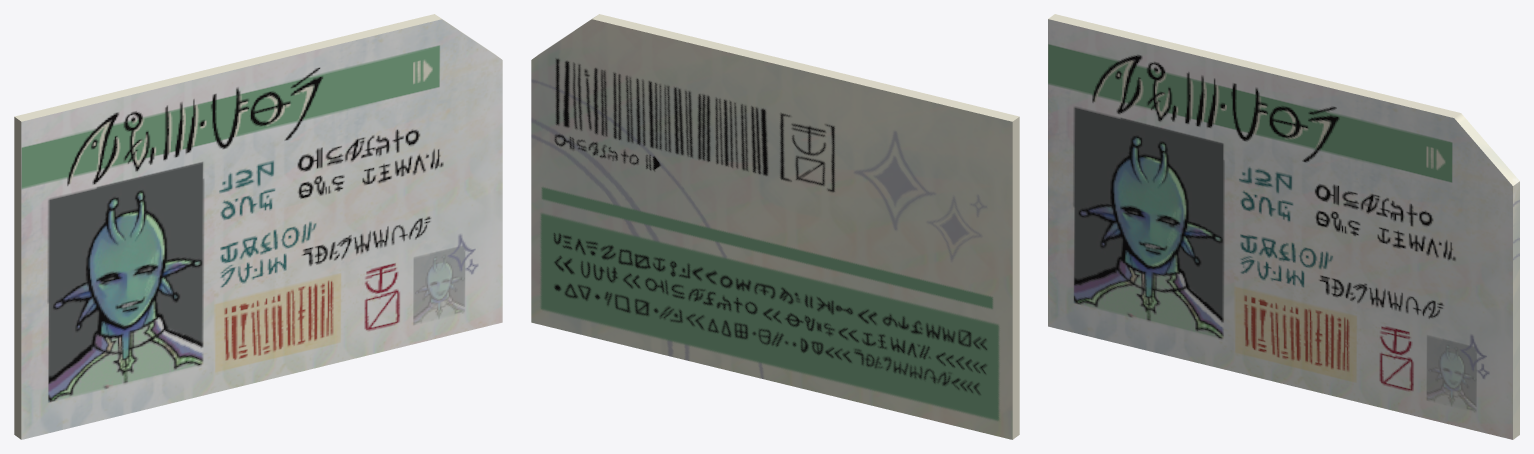
The model's file is Card.fbx.
The picture shows the model from 3 angles, left to right: view 1: azimuth 30°, elevation 25°; view 2: azimuth 150°, elevation 25°; view 3: azimuth 330°, elevation 25°; orthographic projection. The views are drawn at different scales.
Visible parts, largest first — view 1: guard_id; view 2: guard_id; view 3: guard_id.
Boxes of the visible parts, x1=… form: guard_id: x1=14, y1=14, x2=502, y2=439; guard_id: x1=531, y1=14, x2=1019, y2=439; guard_id: x1=1048, y1=14, x2=1519, y2=439.
Size of the model in its own units: 5.06 by 3.2 by 0.1305.
Materials: 1 (1 with a texture image).
